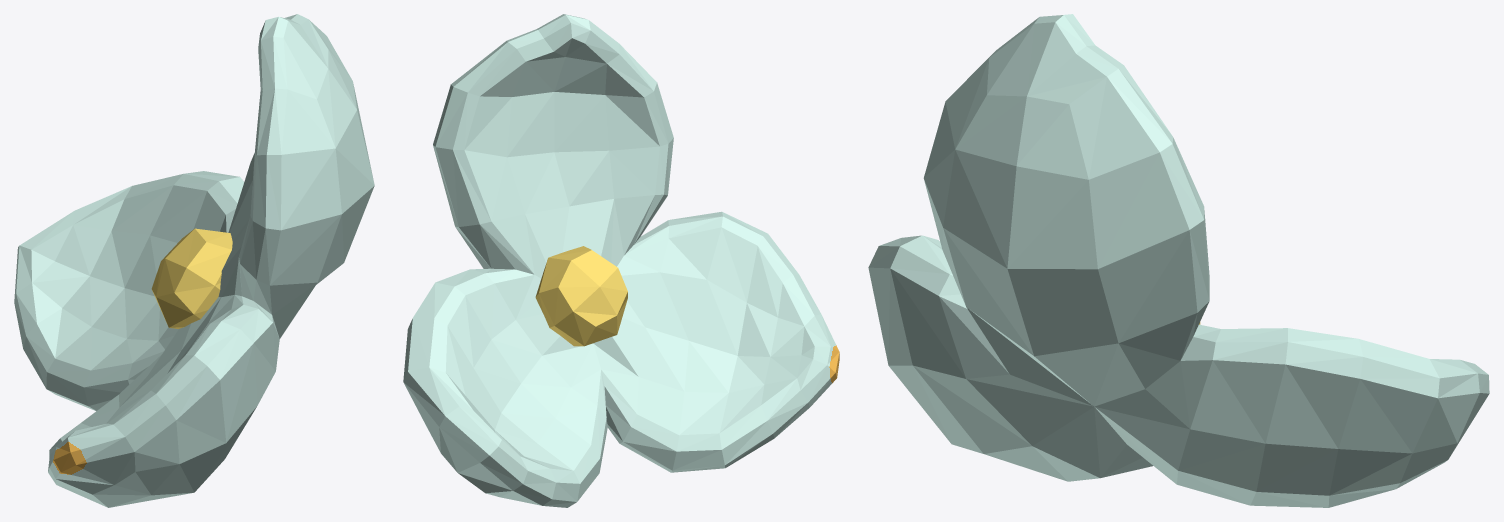
Rendered from CharSkyKid_Horn_AP21Lotus.glb.
3 renders of one model, left to right at view 1: azimuth 30°, elevation 25°; view 2: azimuth 150°, elevation 25°; view 3: azimuth 270°, elevation 25°, orthographic. The views are drawn at different scales.
Parts seen in each view (by area): view 1: CharSkyKid_Horn_AP21Lotus; view 2: CharSkyKid_Horn_AP21Lotus; view 3: CharSkyKid_Horn_AP21Lotus.
Part boxes in pixels (x1,y1,x2,y2): CharSkyKid_Horn_AP21Lotus: (14,14,374,507); CharSkyKid_Horn_AP21Lotus: (403,14,839,507); CharSkyKid_Horn_AP21Lotus: (868,14,1489,507).
Bounding box in the file's own units: 1.04 × 1.22 × 1.27.
1 material, 1 textured.
